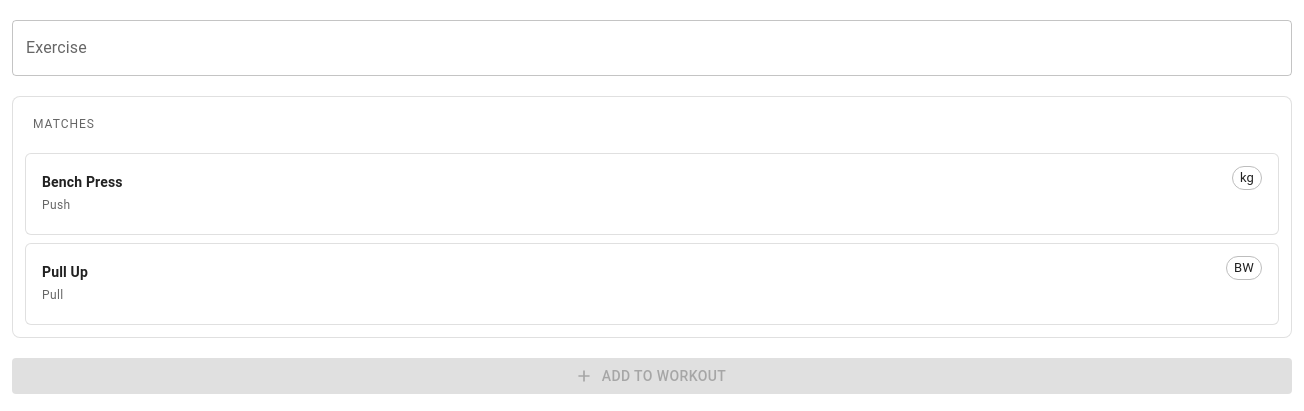
Scenario: ExercisePickerForm › shows initial matches and enables submission after selecting an exercise
This screenshot has width=1304, height=411.
Expected: the text "Bench Press" is shown, [42,174,123,190]
Expected: the text "Pull Up" is shown, [42,264,88,280]
What coordinates should you click on to do the following:
click the button "Pull Up Pull BW"
I would click on:
 (65, 272)
Its box is [25,243,1279,325].
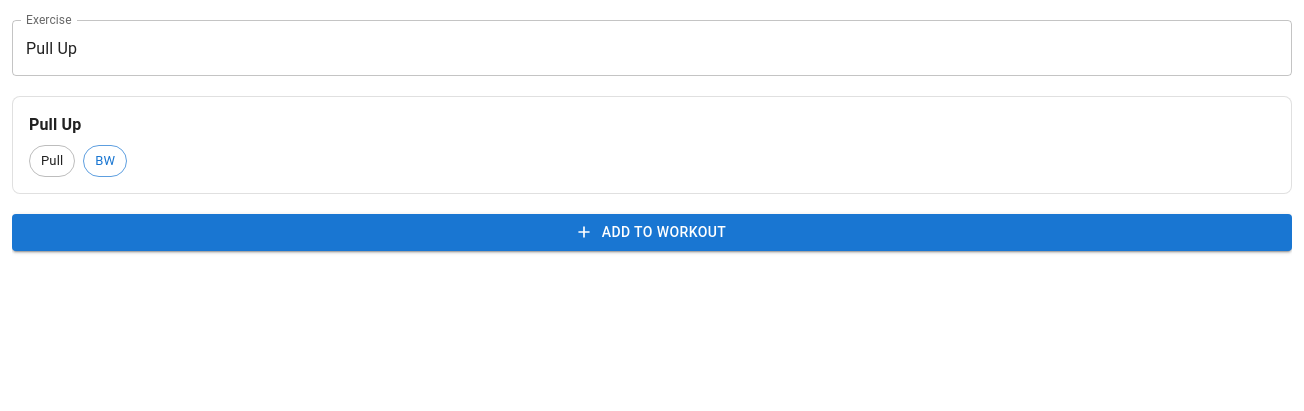
Expected: the text "Pull Up" is shown, [29,115,81,134]
Now the button "Add to workout" is enabled, box [12,214,1292,250]
